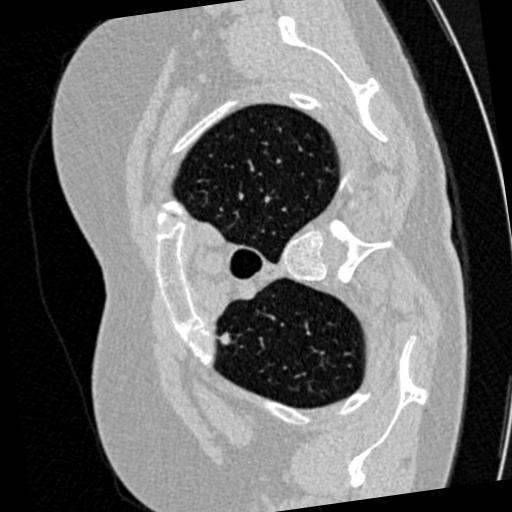nodule: (214, 328, 234, 348)
